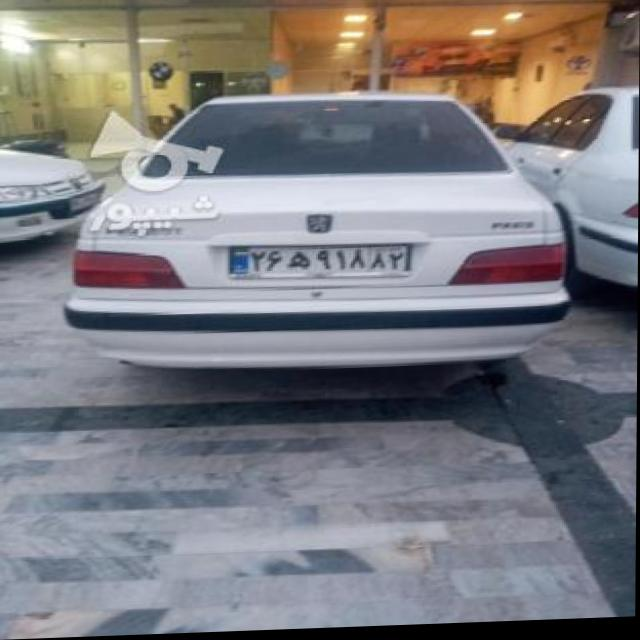licence: (226, 240, 409, 281)
